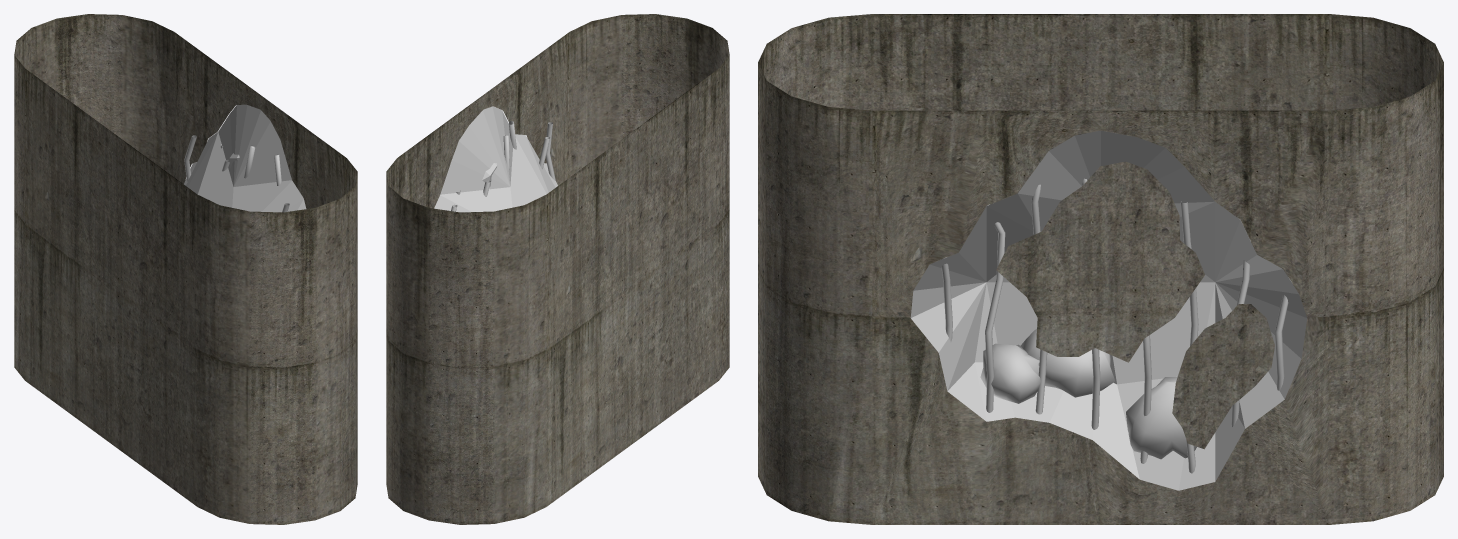
Rendered from concrete_pillar_broken02.dae.
3 views of the same model, side by side, from view 1: azimuth 30°, elevation 25°; view 2: azimuth 150°, elevation 25°; view 3: azimuth 270°, elevation 25° (orthographic). The views are drawn at different scales.
Visible parts, largest first — view 1: polySurface213, polySurface214, polySurface209; view 2: polySurface213, polySurface214, polySurface209; view 3: polySurface213, polySurface214, polySurface209.
Part boxes in pixels (<box>): polySurface213: <box>14,14,357,524</box>; polySurface214: <box>183,104,306,212</box>; polySurface209: <box>184,135,289,212</box>; polySurface213: <box>386,14,729,524</box>; polySurface214: <box>434,106,557,212</box>; polySurface209: <box>451,121,555,211</box>; polySurface213: <box>758,14,1443,524</box>; polySurface214: <box>910,130,1307,490</box>; polySurface209: <box>940,161,1292,473</box>.
Bounding box in the file's own units: 2.06 × 4 × 6.
